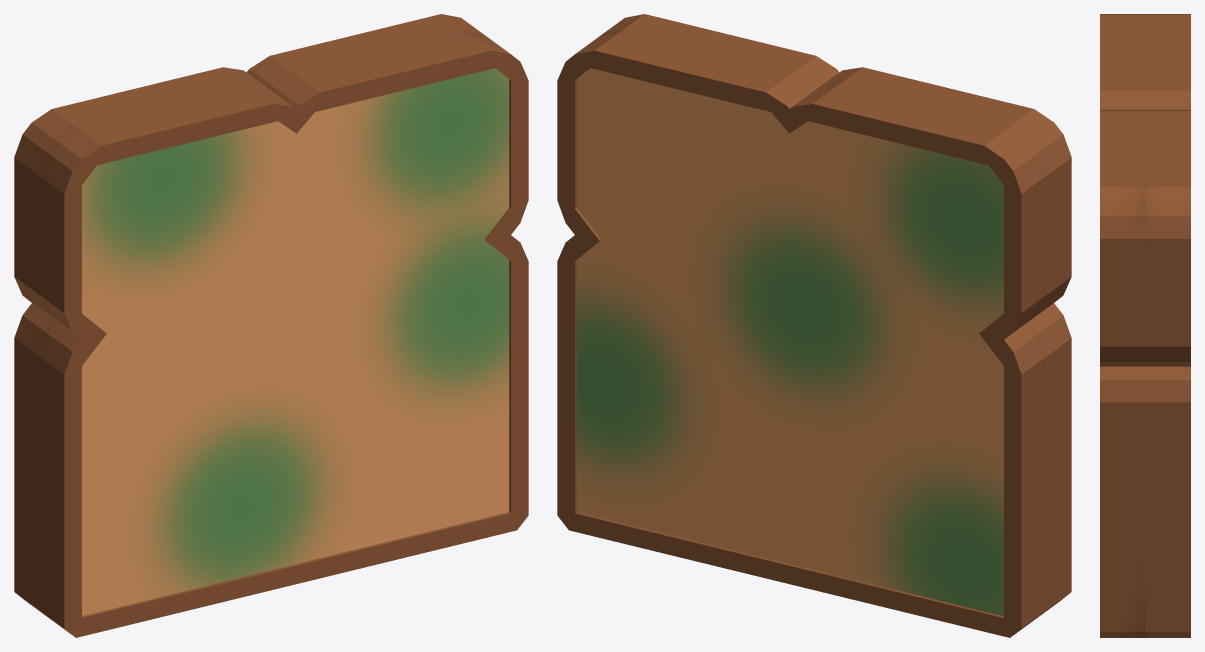
Rendered from MoldyBread.fbx.
3 renders of one model, left to right at view 1: azimuth 30°, elevation 25°; view 2: azimuth 150°, elevation 25°; view 3: azimuth 270°, elevation 25°, orthographic. The views are drawn at different scales.
Parts seen in each view (by area): view 1: Moldy Bread; view 2: Moldy Bread; view 3: Moldy Bread.
Boxes of the visible parts, x1,y1,x2,y2 form: Moldy Bread: (14, 14, 528, 637); Moldy Bread: (557, 14, 1071, 637); Moldy Bread: (1100, 14, 1190, 637).
Bounding box in the file's own units: 37.4 × 200 × 200.
